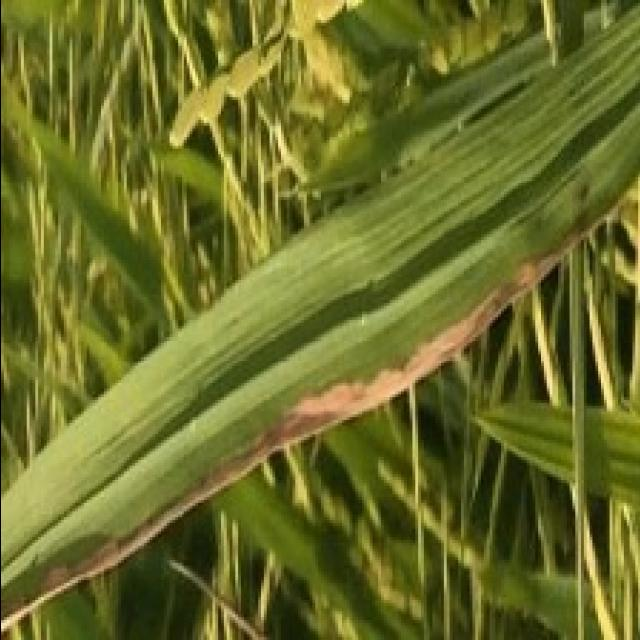Unhealthy: (0, 225, 597, 633)
